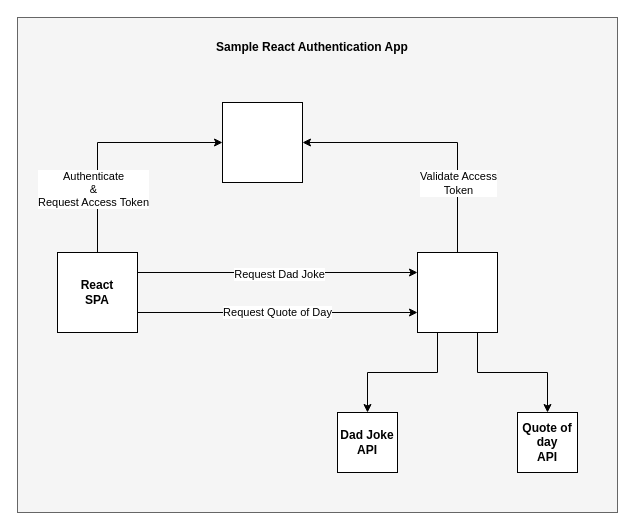
This 635x530 diagram has some shape labels left out. Each missing label, with the centre of its shape:
Springboot Auth Server: point (262, 142)
Springboot Resource Server: point (457, 292)
